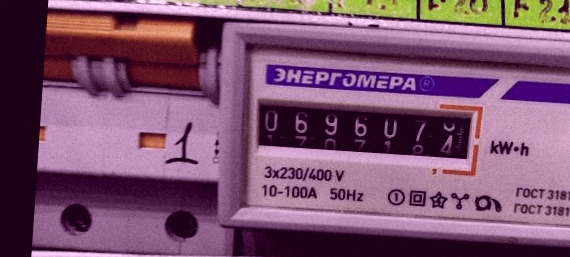0: (261, 107, 280, 132), (381, 113, 398, 139)
4: (437, 131, 455, 156)
6: (291, 109, 310, 134), (351, 112, 370, 137)
7: (411, 117, 428, 144)
9: (321, 111, 339, 136)
screen: (241, 84, 487, 173)
